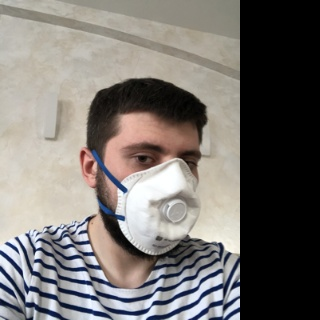with_mask: (113, 128, 202, 259)
